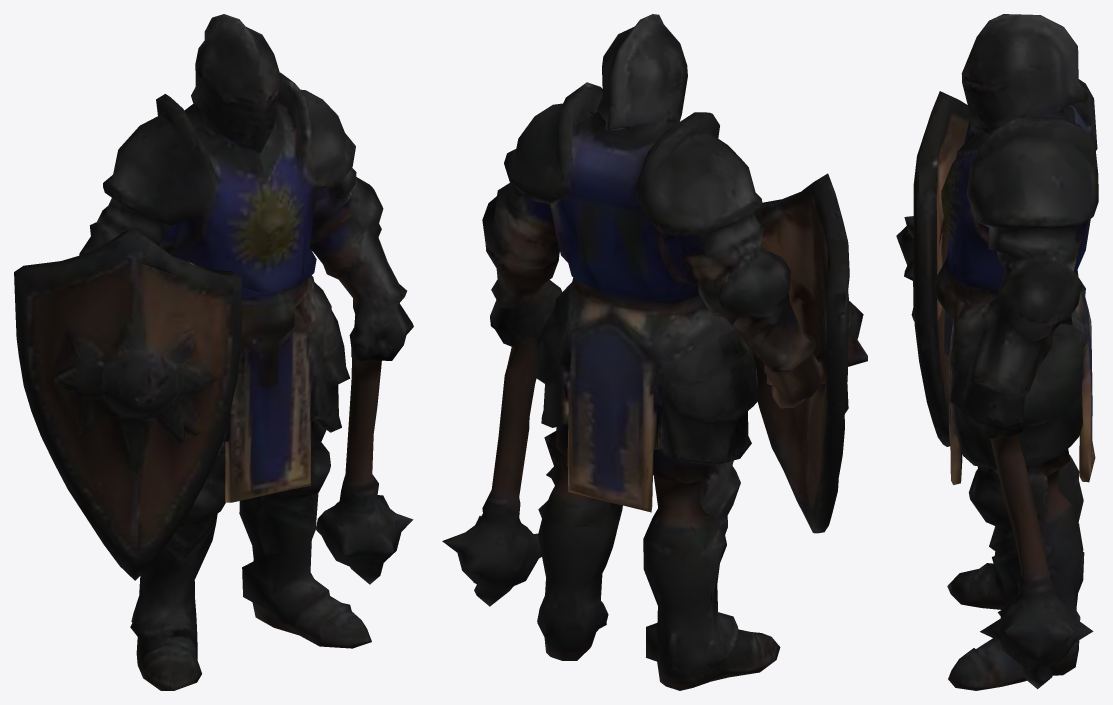
Rendered from detail_5_lo2.glb.
The picture shows the model from 3 angles, left to right: view 1: azimuth 30°, elevation 25°; view 2: azimuth 150°, elevation 25°; view 3: azimuth 270°, elevation 25°; orthographic projection.
Parts seen in each view (by area): view 1: Mesh_0.001; view 2: Mesh_0.001; view 3: Mesh_0.001.
Boxes of the visible parts, x1=… form: Mesh_0.001: x1=14, y1=14, x2=413, y2=690; Mesh_0.001: x1=442, y1=14, x2=867, y2=690; Mesh_0.001: x1=896, y1=14, x2=1098, y2=690.
Bounding box in the file's own units: 0.6495 × 0.9984 × 0.2934.
1 material, 1 textured.
